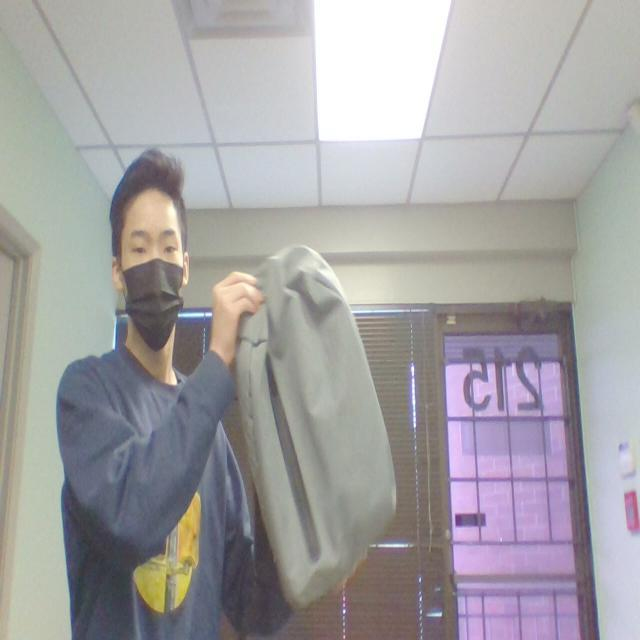Backpacks: (238, 240, 400, 614)
